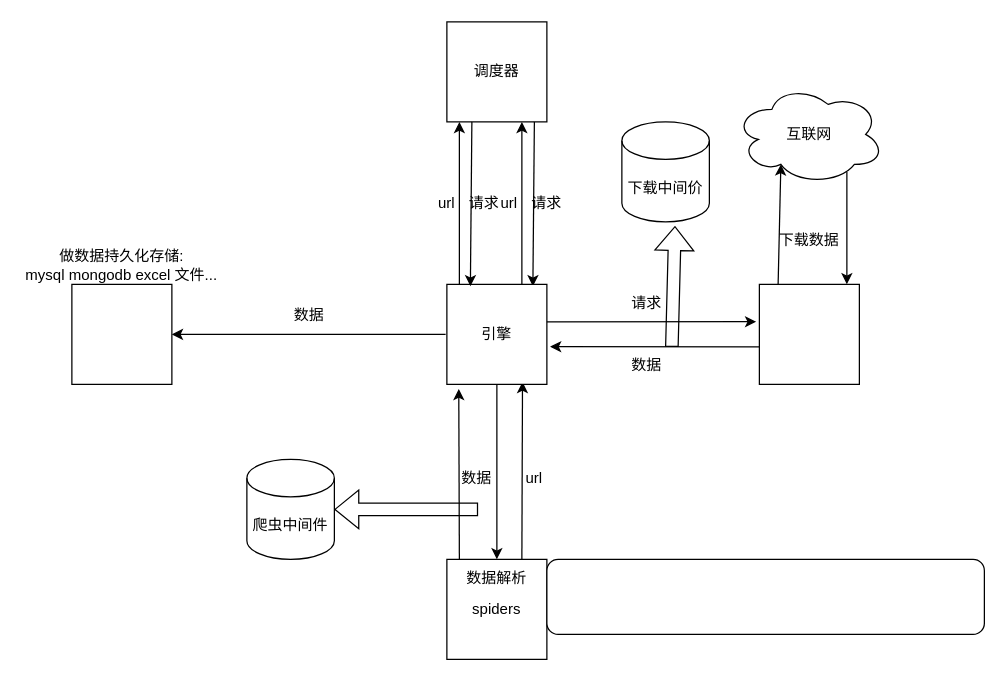
The diagram is 1006 pixels wide and 681 high, and some of its shapes have lost their labels. Here are the shapes that lost their labels. From the top down, the centre of each, then its label:
At [121,333]: "管道文件".
At [808,333]: "下载器".
At [765,596]: "解析完有两种类型的数据: 1.解析出来的数据就是我们想要的,比如图片链接,图片标题,价格... 2.解析出来的是详情页面的url(链接),对链接再次发起请求".
